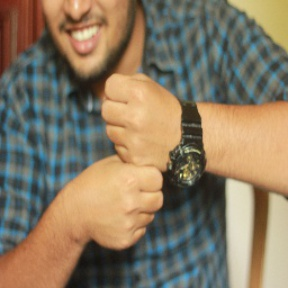G: (81, 65, 182, 254)
